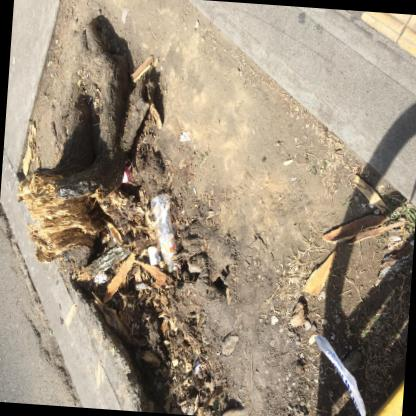Paper: (122, 165, 132, 182), (192, 359, 202, 375), (194, 186, 197, 194)
Plastic: (315, 334, 366, 416), (151, 193, 176, 271), (155, 254, 170, 273), (129, 161, 133, 169)
Waste: (148, 247, 159, 265)
